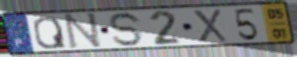2: (148, 9, 182, 47)
5: (233, 7, 261, 41)
N: (64, 11, 104, 50)
Q: (32, 16, 69, 50)
S: (108, 11, 145, 48)
X: (190, 8, 229, 44)
